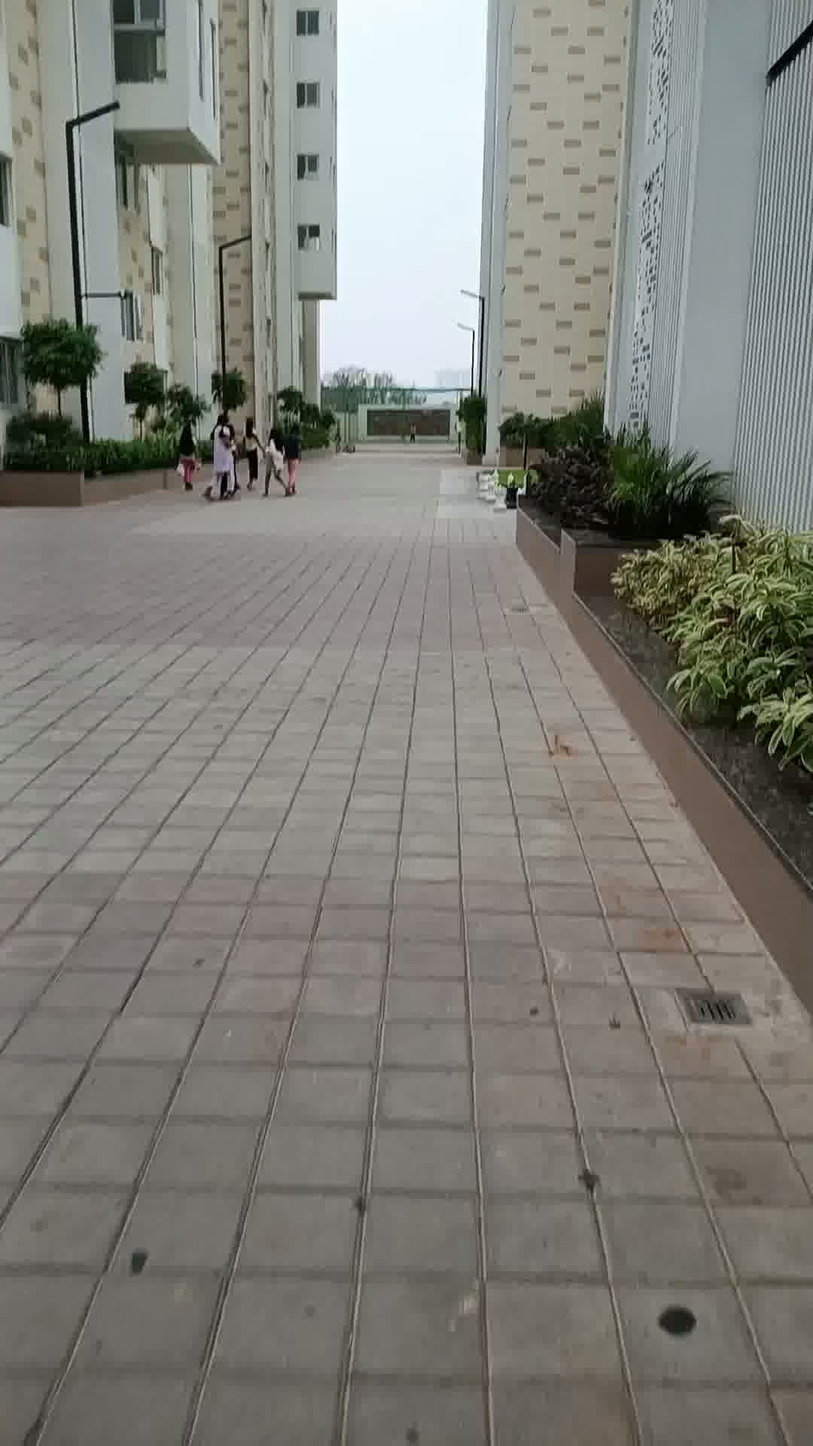person: (204, 402, 237, 510), (172, 402, 201, 514), (282, 414, 310, 506), (241, 409, 261, 517), (265, 410, 287, 501)
tree: (9, 297, 100, 447), (199, 339, 259, 429), (124, 344, 167, 460), (297, 390, 337, 434), (274, 379, 307, 425)
